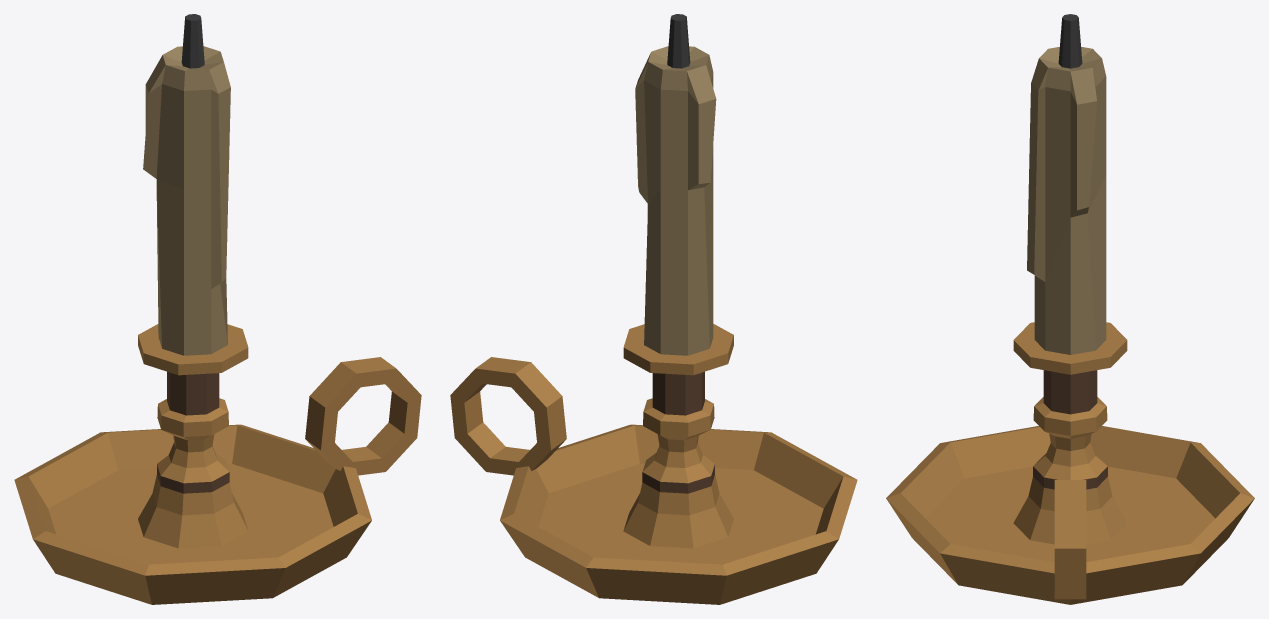
File: SM_Item_Candle_01.glb
The picture shows the model from 3 angles, left to right: view 1: azimuth 30°, elevation 25°; view 2: azimuth 150°, elevation 25°; view 3: azimuth 270°, elevation 25°; orthographic projection.
Parts seen in each view (by area): view 1: SM_Item_Candle_01; view 2: SM_Item_Candle_01; view 3: SM_Item_Candle_01.
Part boxes in pixels (x1,y1,x2,y2): SM_Item_Candle_01: (14, 14, 421, 604); SM_Item_Candle_01: (450, 14, 857, 604); SM_Item_Candle_01: (886, 14, 1254, 604).
Bounding box in the file's own units: 0.00258 × 0.00338 × 0.00217.
